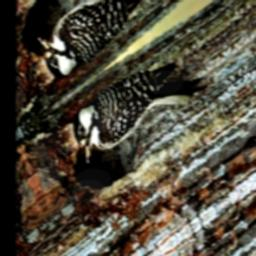Woodpecker: (65, 30, 209, 180)
